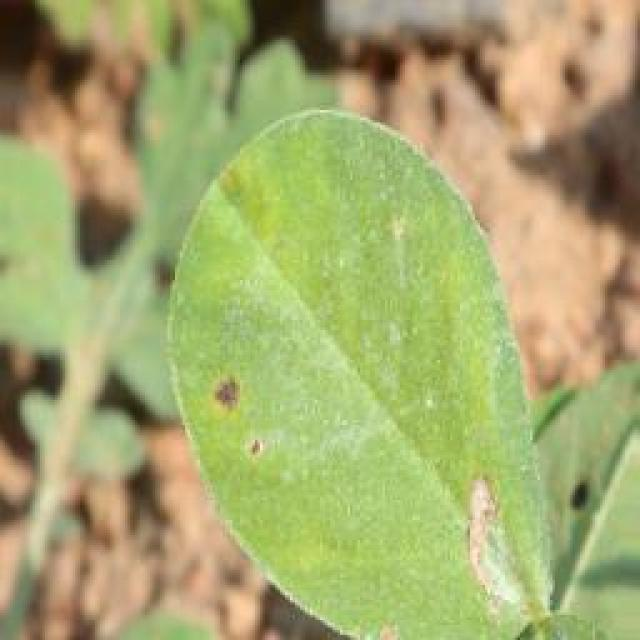Early_leaf_spot: (448, 465, 552, 640), (205, 359, 281, 485)
